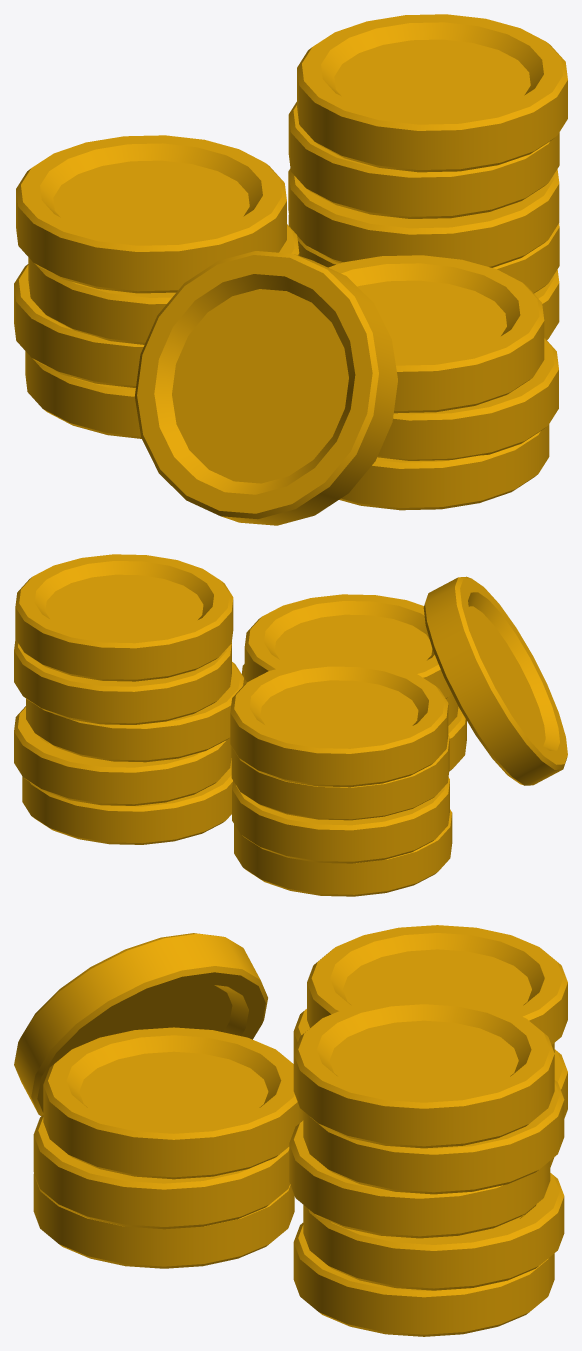
Rendered from CoinsMesh.fbx.
3 views of the same model, one above another, from view 1: azimuth 30°, elevation 25°; view 2: azimuth 150°, elevation 25°; view 3: azimuth 270°, elevation 25° (orthographic). The views are drawn at different scales.
Visible parts, largest first — view 1: CoinsMesh; view 2: CoinsMesh; view 3: CoinsMesh.
Part boxes in pixels (x1=…): CoinsMesh: x1=14, y1=14, x2=567, y2=525; CoinsMesh: x1=14, y1=554, x2=567, y2=896; CoinsMesh: x1=14, y1=925, x2=567, y2=1336.
Bounding box in the file's own units: 460 × 210 × 440.
